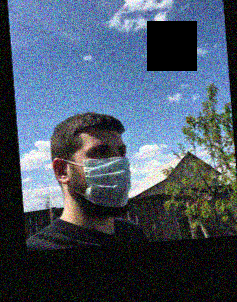with_mask: (79, 137, 131, 217)
